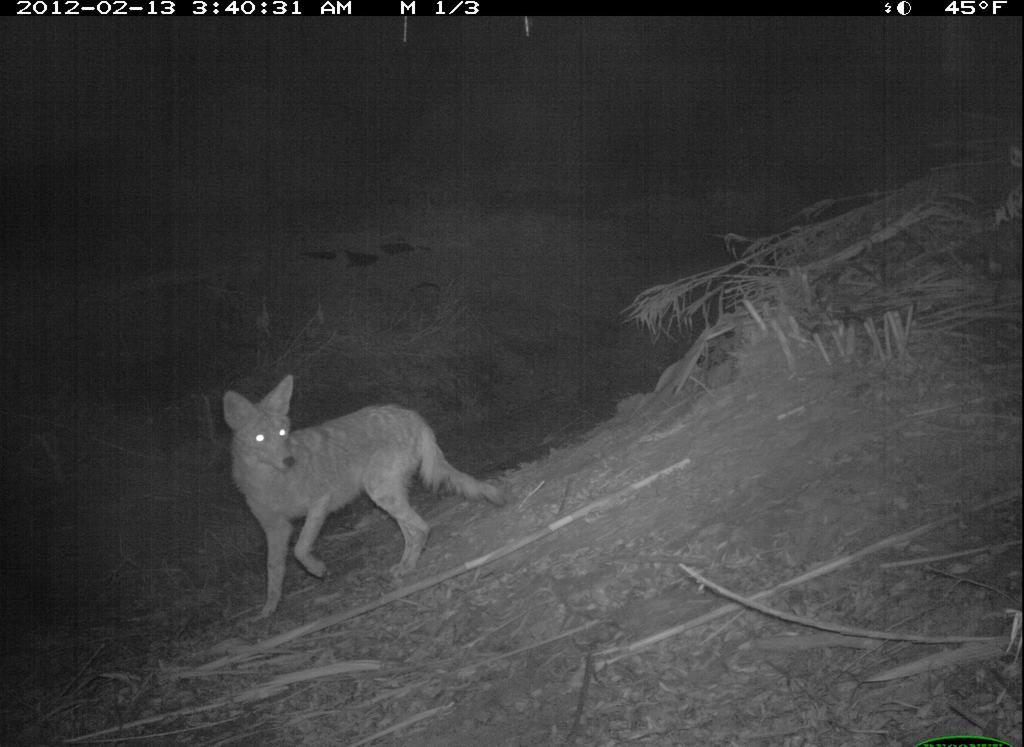coyote: (207, 370, 510, 620)
